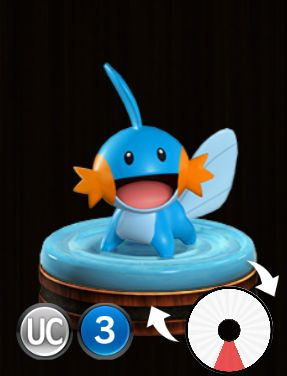mudkip: (51, 61, 238, 259)
